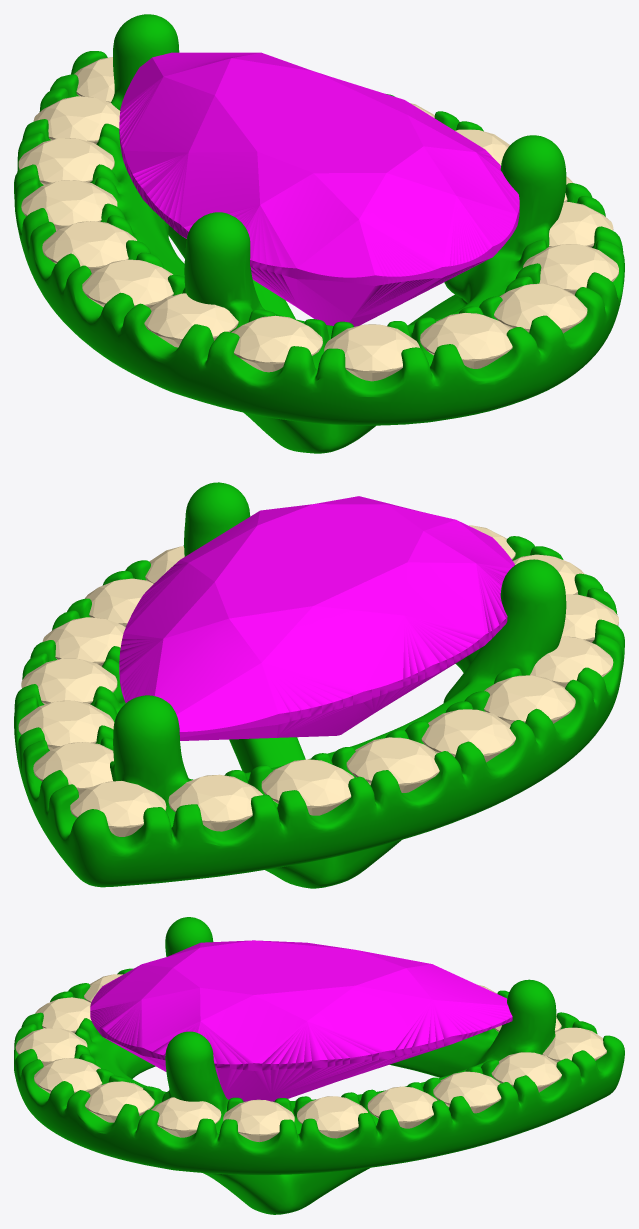
3 views of the same model, one above another, from view 1: azimuth 30°, elevation 25°; view 2: azimuth 150°, elevation 25°; view 3: azimuth 270°, elevation 25° (orthographic). The views are drawn at different scales.
Visible parts, largest first — view 1: Metal01, Diamond_Pear, Diamond_Round.006, Diamond_Round.007, Diamond_Round.008, Diamond_Round.010, Diamond_Round.005, Diamond_Round.011, Diamond_Round.013, Diamond_Round.012, Diamond_Round.004, Diamond_Round.009 (+4 smaller); view 2: Metal01, Diamond_Pear, Diamond_Round.012, Diamond_Round.014, Diamond_Round.013, Diamond_Round.011, Diamond_Round.010, Diamond_Round.015, Diamond_Round, Diamond_Round.017, Diamond_Round.016, Diamond_Round.001 (+5 smaller); view 3: Metal01, Diamond_Pear, Diamond_Round.002, Diamond_Round.001, Diamond_Round, Diamond_Round.017, Diamond_Round.004, Diamond_Round.003, Diamond_Round.016, Diamond_Round.005, Diamond_Round.006, Diamond_Round.015 (+1 smaller).
Part boxes in pixels (left/top/right/bottom): Metal01: left=14, top=14, right=624, bottom=453; Diamond_Pear: left=119, top=52, right=519, bottom=326; Diamond_Round.006: left=420, top=313, right=512, bottom=368; Diamond_Round.007: left=324, top=324, right=419, bottom=381; Diamond_Round.008: left=231, top=315, right=322, bottom=372; Diamond_Round.010: left=82, top=259, right=173, bottom=307; Diamond_Round.005: left=494, top=283, right=587, bottom=333; Diamond_Round.011: left=42, top=221, right=136, bottom=272; Diamond_Round.013: left=18, top=138, right=114, bottom=185; Diamond_Round.012: left=21, top=180, right=117, bottom=231; Diamond_Round.004: left=523, top=244, right=618, bottom=294; Diamond_Round.009: left=144, top=293, right=238, bottom=347; Metal01: left=14, top=482, right=624, bottom=888; Diamond_Pear: left=119, top=496, right=514, bottom=740; Diamond_Round.012: left=346, top=737, right=439, bottom=792; Diamond_Round.014: left=168, top=774, right=262, bottom=831; Diamond_Round.013: left=261, top=759, right=354, bottom=815; Diamond_Round.011: left=421, top=709, right=515, bottom=762; Diamond_Round.010: left=484, top=675, right=575, bottom=724; Diamond_Round.015: left=70, top=781, right=166, bottom=836; Diamond_Round: left=21, top=658, right=117, bottom=704; Diamond_Round.017: left=18, top=700, right=114, bottom=750; Diamond_Round.016: left=33, top=742, right=113, bottom=793; Diamond_Round.001: left=42, top=617, right=125, bottom=666; Metal01: left=14, top=917, right=624, bottom=1214; Diamond_Pear: left=90, top=940, right=512, bottom=1101; Diamond_Round.002: left=223, top=1099, right=294, bottom=1142; Diamond_Round.001: left=297, top=1096, right=367, bottom=1138; Diamond_Round: left=367, top=1086, right=437, bottom=1128; Diamond_Round.017: left=433, top=1071, right=501, bottom=1113; Diamond_Round.004: left=85, top=1081, right=154, bottom=1122; Diamond_Round.003: left=151, top=1097, right=221, bottom=1137; Diamond_Round.016: left=491, top=1052, right=561, bottom=1092; Diamond_Round.005: left=34, top=1058, right=102, bottom=1093; Diamond_Round.006: left=15, top=1028, right=87, bottom=1065; Diamond_Round.015: left=542, top=1027, right=606, bottom=1062.
Bounding box in the file's own units: 9.92 × 6.29 × 14.51.
